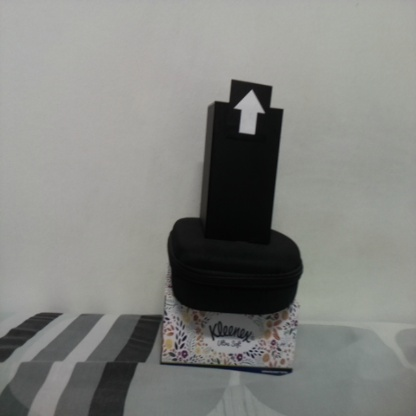id_1: (229, 83, 271, 150)
